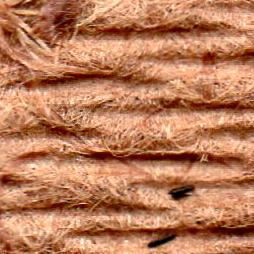egg: (148, 234, 176, 247), (168, 187, 194, 198)
